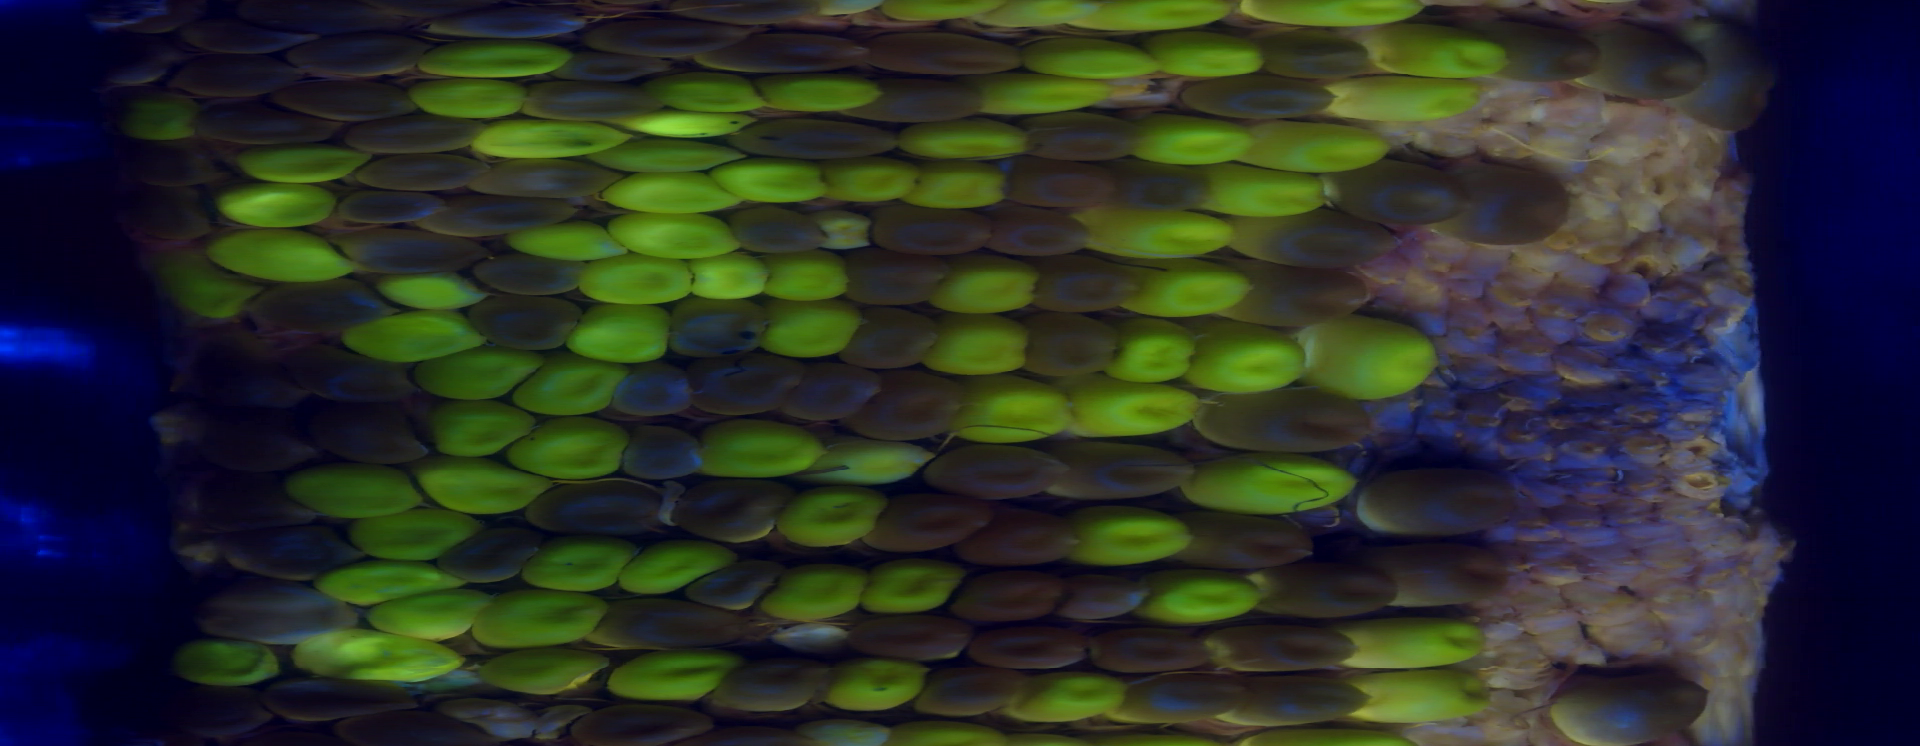fluorescent: (1304, 314, 1441, 398), (1191, 452, 1359, 518), (1352, 668, 1491, 725), (1381, 24, 1515, 85), (1139, 570, 1267, 631), (956, 381, 1078, 446), (1207, 159, 1335, 220), (1251, 120, 1390, 176), (291, 636, 467, 680), (1340, 72, 1493, 122), (349, 304, 481, 361), (1068, 510, 1194, 570), (931, 257, 1044, 320), (933, 317, 1038, 385), (471, 643, 605, 696), (1344, 620, 1489, 668), (1130, 261, 1261, 314), (413, 462, 545, 513), (1092, 209, 1231, 258), (1019, 40, 1163, 87), (1207, 322, 1304, 391), (227, 141, 369, 187), (212, 235, 358, 281), (475, 592, 600, 644), (787, 492, 896, 552), (1144, 109, 1259, 165), (358, 511, 476, 565), (760, 565, 868, 624), (291, 467, 418, 517), (509, 423, 626, 477), (422, 398, 524, 459), (1249, 1, 1430, 36), (416, 348, 529, 403), (369, 263, 482, 317), (568, 303, 672, 361), (1086, 383, 1201, 436), (369, 595, 492, 644), (698, 424, 823, 472), (519, 356, 618, 416), (1020, 673, 1133, 725), (983, 72, 1113, 118), (611, 209, 731, 258), (620, 541, 724, 598), (716, 159, 829, 211), (1092, 1, 1239, 40), (902, 120, 1026, 167), (615, 652, 727, 702), (531, 537, 633, 589), (827, 655, 926, 709), (160, 258, 256, 314), (318, 563, 457, 601), (1153, 29, 1260, 78), (402, 76, 527, 118), (579, 258, 696, 303), (1116, 318, 1198, 381), (860, 561, 961, 611), (611, 173, 718, 220), (418, 44, 571, 77), (765, 304, 863, 355), (516, 220, 636, 261), (479, 121, 620, 156), (822, 440, 934, 483), (659, 73, 768, 118), (686, 247, 771, 303), (905, 167, 1011, 209), (219, 187, 334, 225), (185, 633, 285, 676), (757, 78, 882, 113), (124, 94, 204, 147), (759, 258, 853, 300), (823, 157, 915, 198), (629, 110, 757, 140), (615, 143, 748, 170), (1002, 1, 1089, 36), (816, 207, 876, 252), (883, 1, 993, 26)
nonfluorescent: (1449, 146, 1569, 261), (1549, 655, 1709, 741), (1367, 458, 1518, 537), (1201, 385, 1378, 452), (1589, 11, 1704, 109), (201, 578, 358, 643), (1692, 24, 1776, 137), (1056, 441, 1202, 503), (1239, 209, 1397, 266), (1337, 157, 1460, 228), (737, 113, 896, 167), (182, 330, 296, 404), (1489, 10, 1594, 89), (936, 441, 1064, 506), (1386, 543, 1512, 608), (857, 24, 1022, 73), (293, 347, 419, 410), (1239, 261, 1365, 325), (1202, 621, 1357, 673), (531, 481, 660, 543), (189, 99, 344, 148), (227, 522, 361, 577), (1179, 78, 1342, 124), (193, 403, 316, 461), (872, 374, 971, 443), (311, 403, 426, 463), (1262, 24, 1376, 85), (257, 284, 389, 336), (1239, 676, 1371, 728), (1273, 559, 1393, 615), (1131, 670, 1239, 731), (167, 1, 298, 51), (1187, 511, 1304, 566), (467, 294, 578, 352), (726, 652, 827, 715), (1031, 255, 1144, 311), (201, 477, 323, 528), (171, 51, 300, 100), (871, 495, 989, 548), (430, 1, 589, 40), (589, 11, 742, 51), (694, 356, 797, 415), (716, 32, 860, 73), (676, 481, 782, 537), (983, 198, 1087, 255), (334, 232, 489, 269), (872, 202, 986, 254), (267, 676, 416, 715), (664, 300, 771, 354), (339, 707, 485, 746), (850, 610, 971, 657), (604, 601, 752, 639), (978, 617, 1089, 668), (583, 699, 719, 740), (126, 187, 219, 246), (867, 72, 987, 118), (301, 39, 424, 83), (1022, 113, 1141, 158), (973, 514, 1079, 565), (956, 573, 1064, 621), (1029, 311, 1112, 372), (850, 254, 953, 303), (1118, 162, 1215, 213), (479, 162, 613, 198), (1007, 160, 1116, 206), (524, 83, 667, 118), (431, 200, 564, 236), (127, 137, 224, 187), (356, 152, 487, 189), (923, 666, 1020, 715), (796, 361, 872, 423), (860, 311, 939, 367), (187, 685, 276, 735), (301, 85, 413, 124), (615, 369, 691, 425), (351, 121, 490, 152), (444, 533, 535, 579), (731, 207, 822, 254), (96, 31, 174, 83), (1060, 572, 1149, 619), (622, 431, 705, 480), (1098, 626, 1201, 665), (304, 1, 416, 37), (698, 562, 781, 608), (482, 258, 582, 292), (560, 51, 671, 80), (339, 191, 437, 220)
